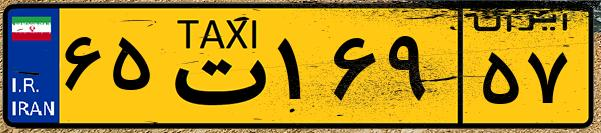1: (270, 28, 330, 110)
5: (475, 38, 525, 113), (110, 28, 158, 98)
6: (330, 28, 385, 110), (57, 26, 110, 100)
7: (525, 38, 570, 115)
9: (385, 28, 445, 110)
ت: (158, 12, 270, 120)
